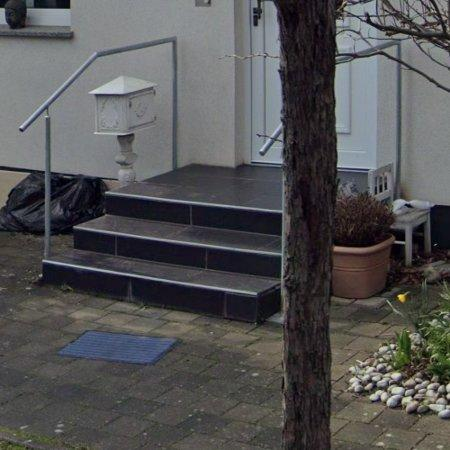stairs: (43, 165, 281, 323)
